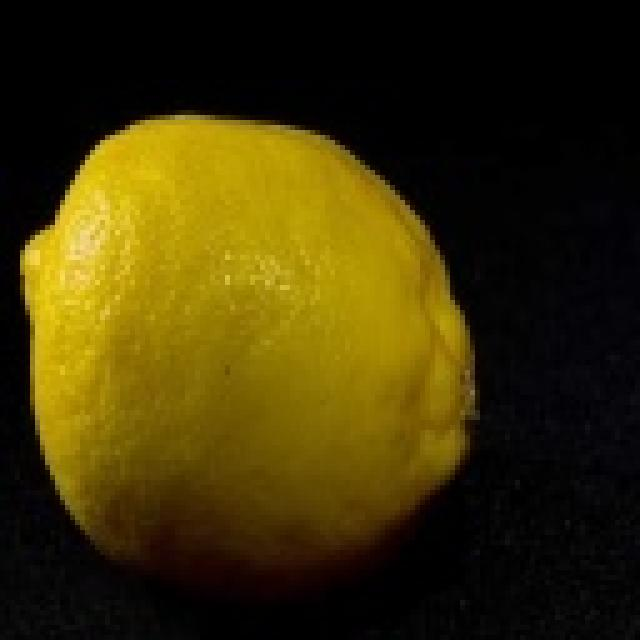lemon: (18, 110, 490, 590)
